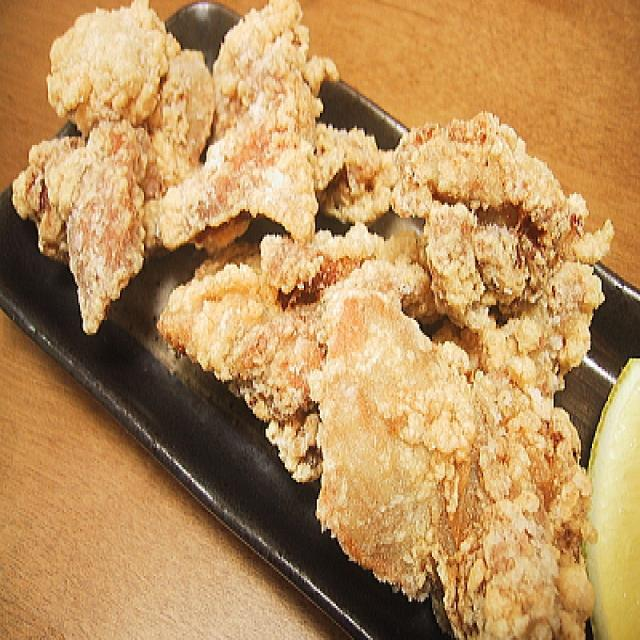鸡肉料理 含炸鸡: (24, 8, 587, 640)
